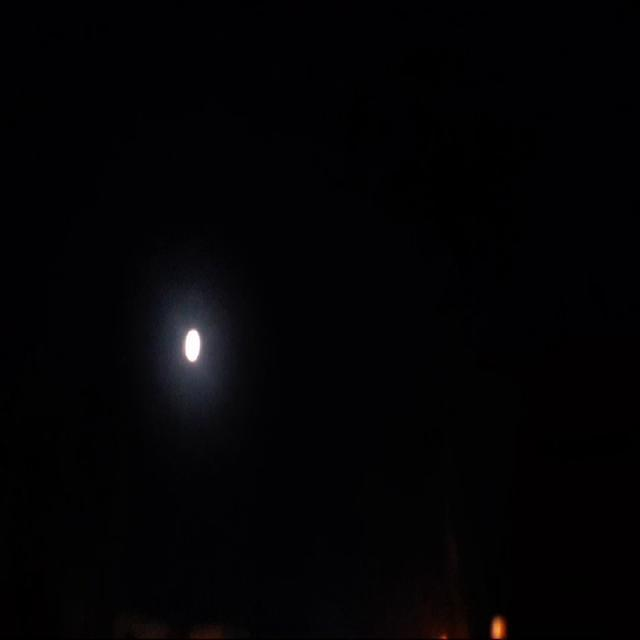moon: (178, 321, 198, 359)
